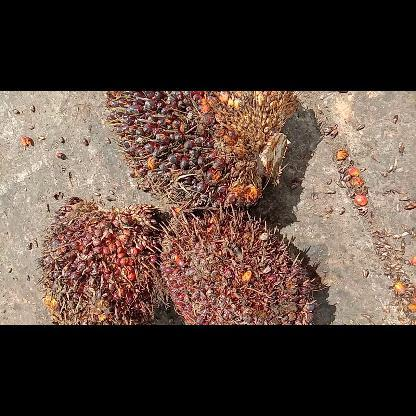Kurang masak: (37, 194, 160, 324)
TBS masak: (102, 92, 300, 210), (158, 206, 320, 324)
